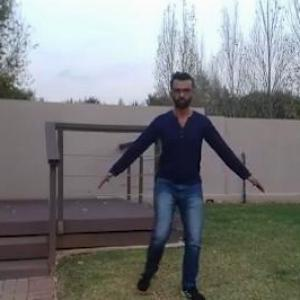land: (111, 75, 249, 299)
